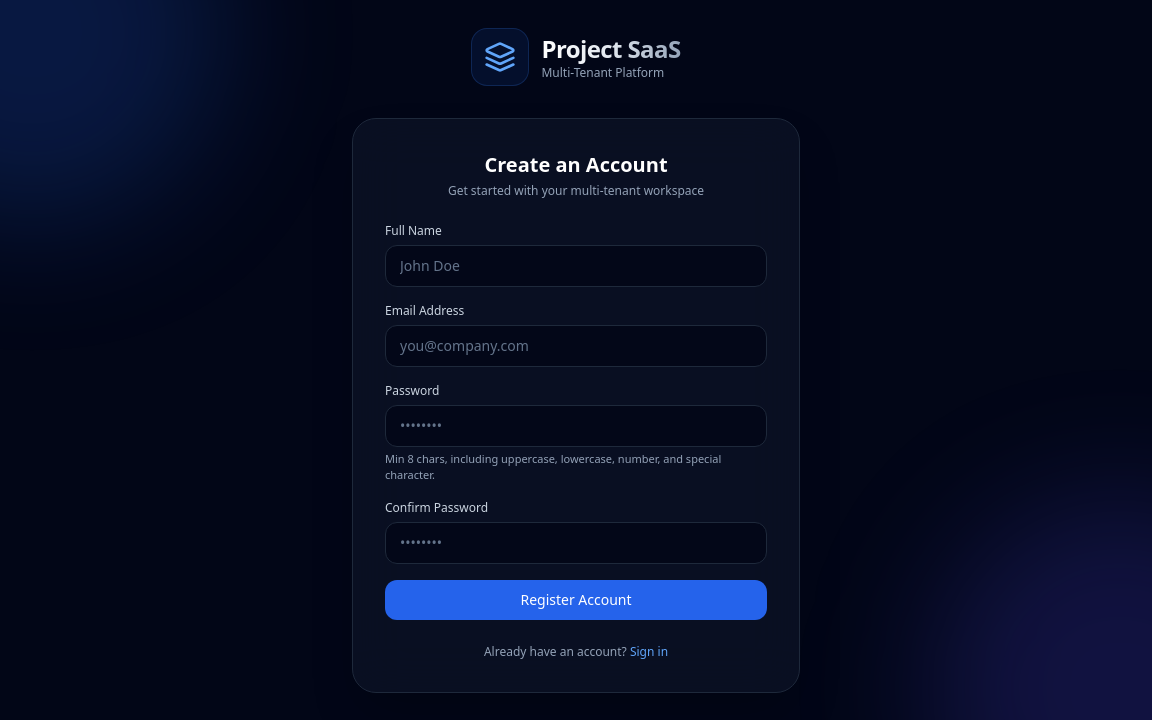
Scenario: Frontend Auth UI Test Suite › should render Register Page form inputs and validate password match
Expected: the field with placeholder "you@company.com" is shown, [385, 324, 767, 366]
Type "Jane Doe" into the field with placeholder "John Doe".
click(576, 266); type("Jane Doe")  # box [385, 244, 767, 286]
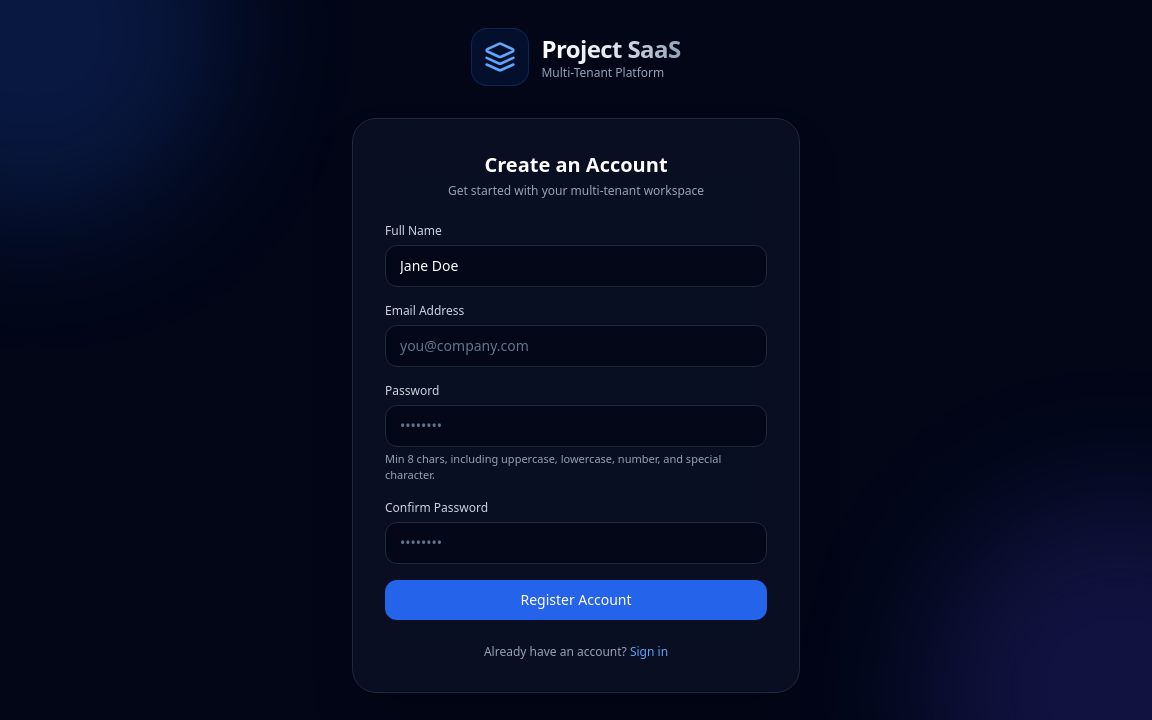
Type "jane@example.com" into the field with placeholder "you@company.com".
click(576, 346); type("jane@example.com")  # box [385, 324, 767, 366]
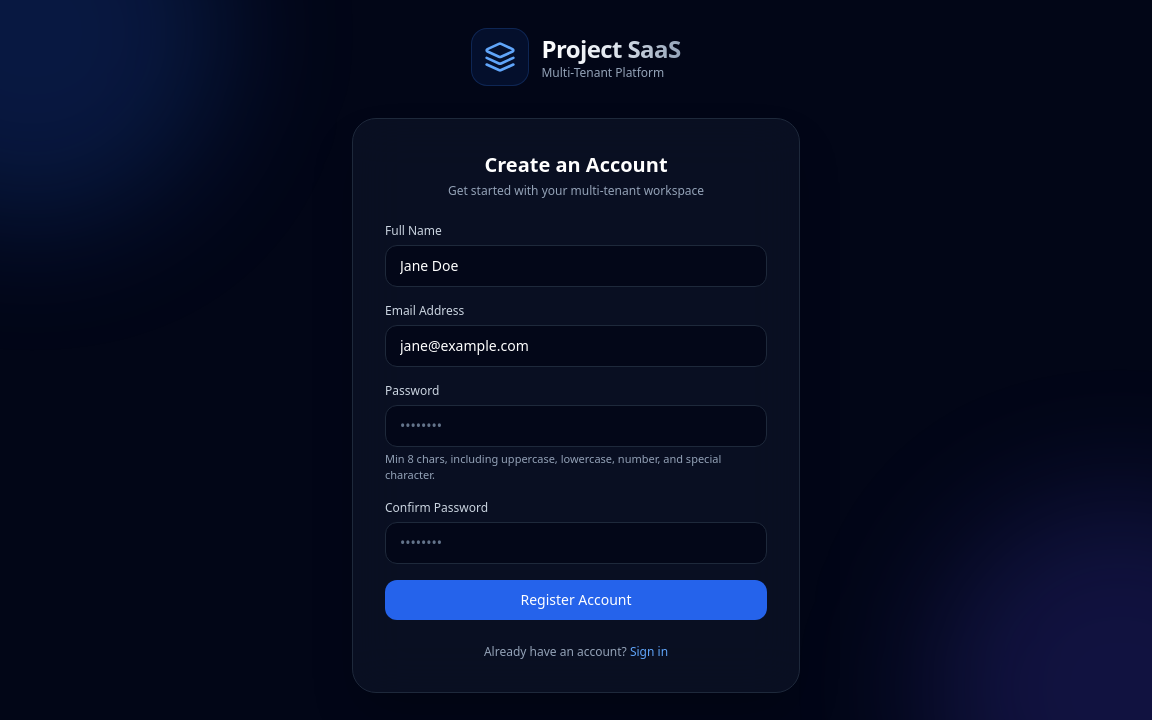
Type "Pass1" into the 1st password field with placeholder "••••••••".
click(576, 426); type("Pass1")  # box [385, 404, 767, 446]
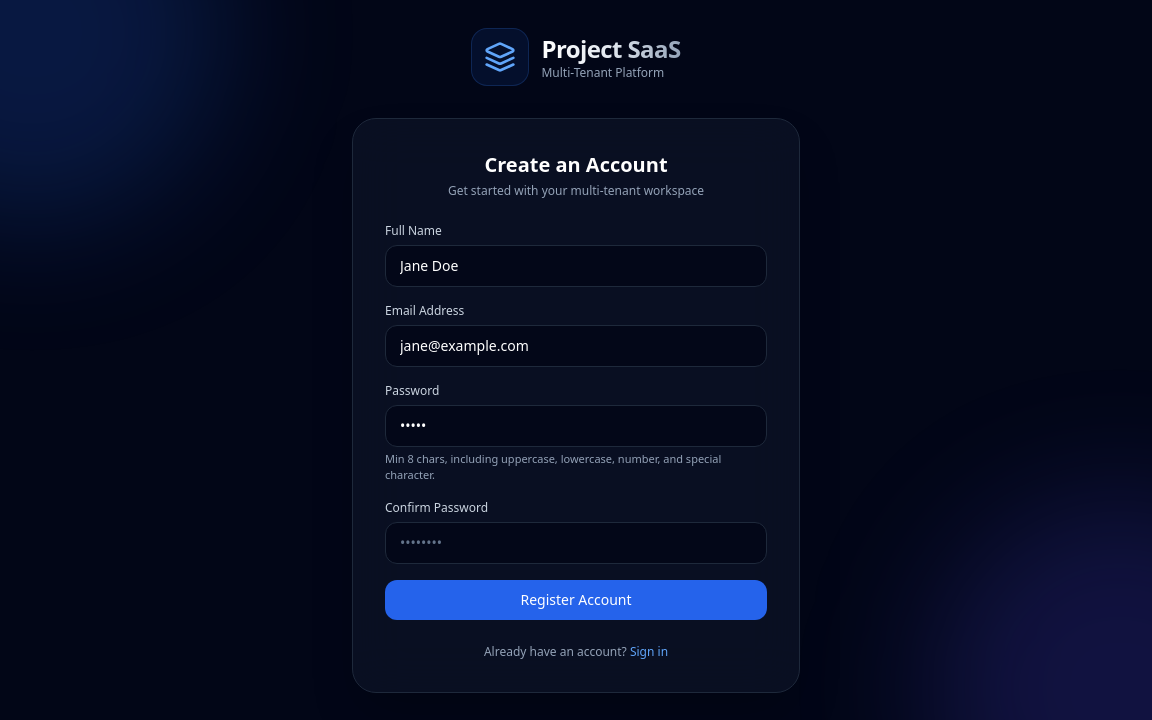
Type "Pass2" into the password field with placeholder "••••••••".
click(576, 542); type("Pass2")  # box [385, 522, 767, 564]
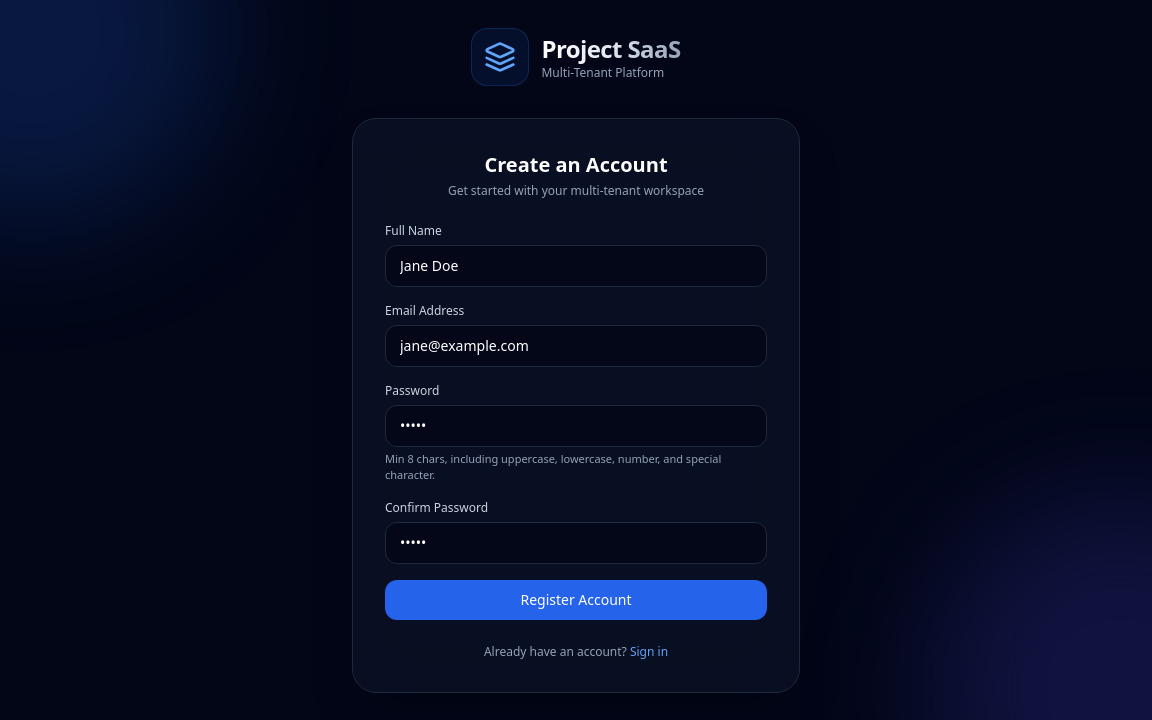
Click the button "Register Account".
click(576, 600)  # box [385, 580, 767, 620]
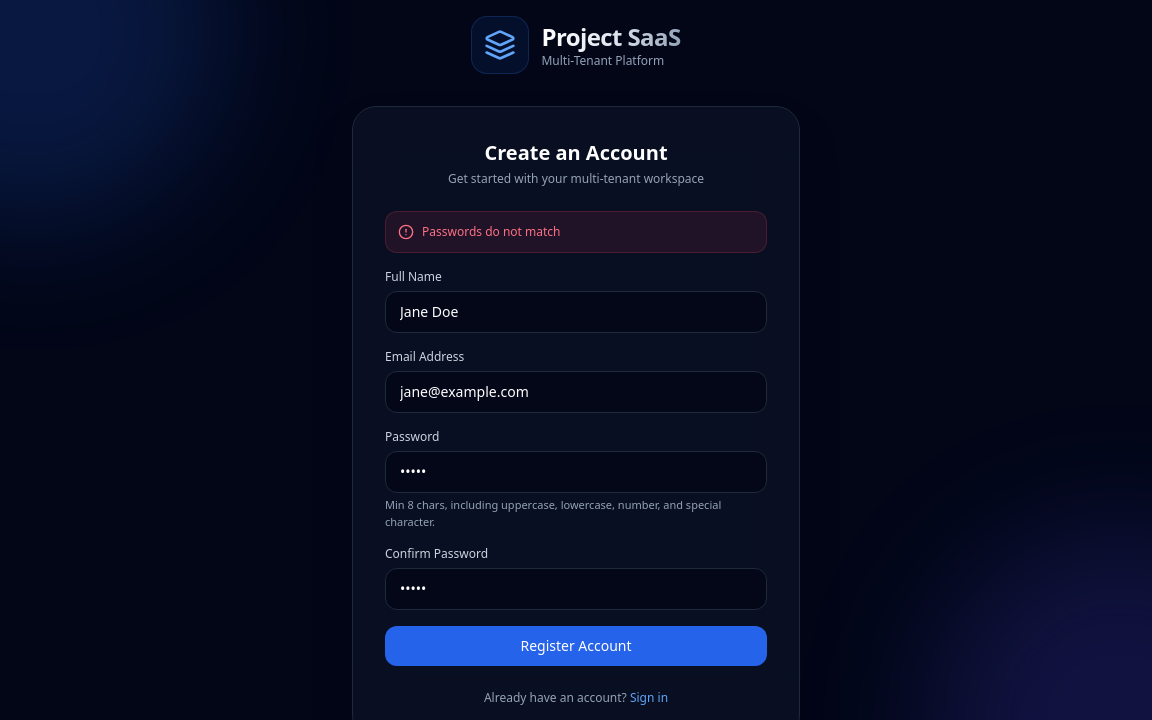
Expected: the text "Passwords do not match" is shown, [422, 224, 560, 240]
